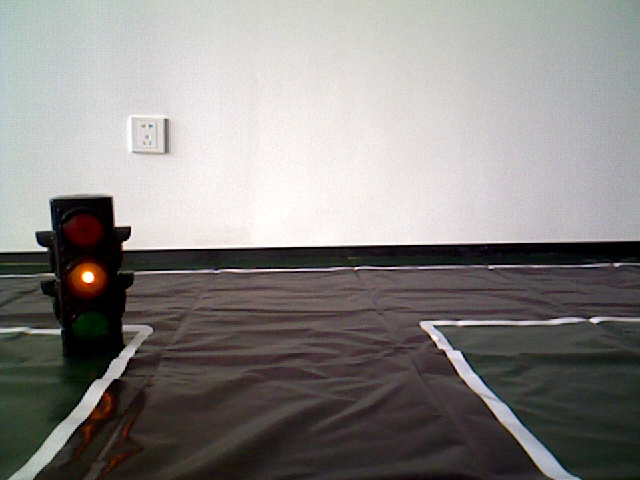yellow: (53, 197, 123, 340)
